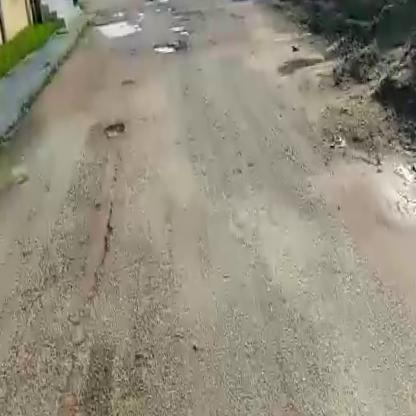pothole: (91, 15, 142, 39), (149, 38, 186, 56), (101, 119, 126, 139)
